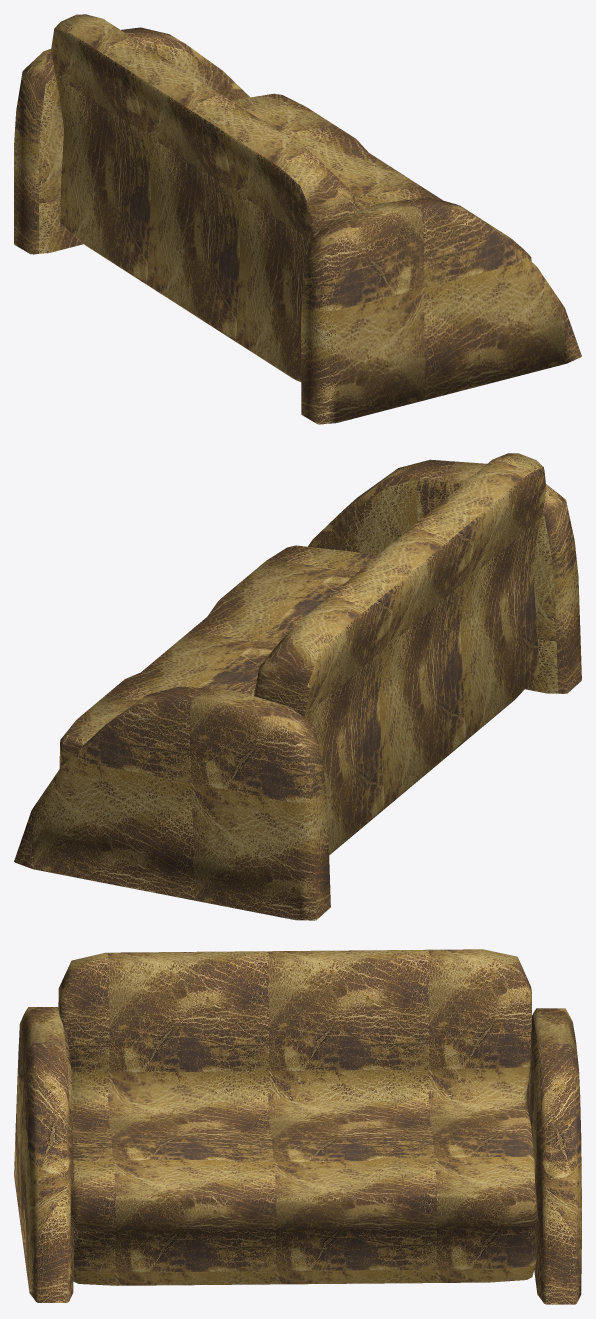
The model's file is couch.FBX.
3 views of the same model, one above another, from view 1: azimuth 30°, elevation 25°; view 2: azimuth 150°, elevation 25°; view 3: azimuth 270°, elevation 25° (orthographic). The views are drawn at different scales.
Parts seen in each view (by area): view 1: LeatherCouch, Group001; view 2: LeatherCouch, Group001; view 3: LeatherCouch, Group001.
Boxes of the visible parts, bbox=[...] form: LeatherCouch: bbox=[51, 14, 531, 381]; Group001: bbox=[14, 27, 581, 424]; LeatherCouch: bbox=[59, 453, 546, 854]; Group001: bbox=[14, 459, 581, 920]; LeatherCouch: bbox=[58, 949, 537, 1285]; Group001: bbox=[14, 1007, 581, 1304].
Size of the model in its own units: 16.56 by 13.18 by 27.77.
Materials: 1 (1 with a texture image).
